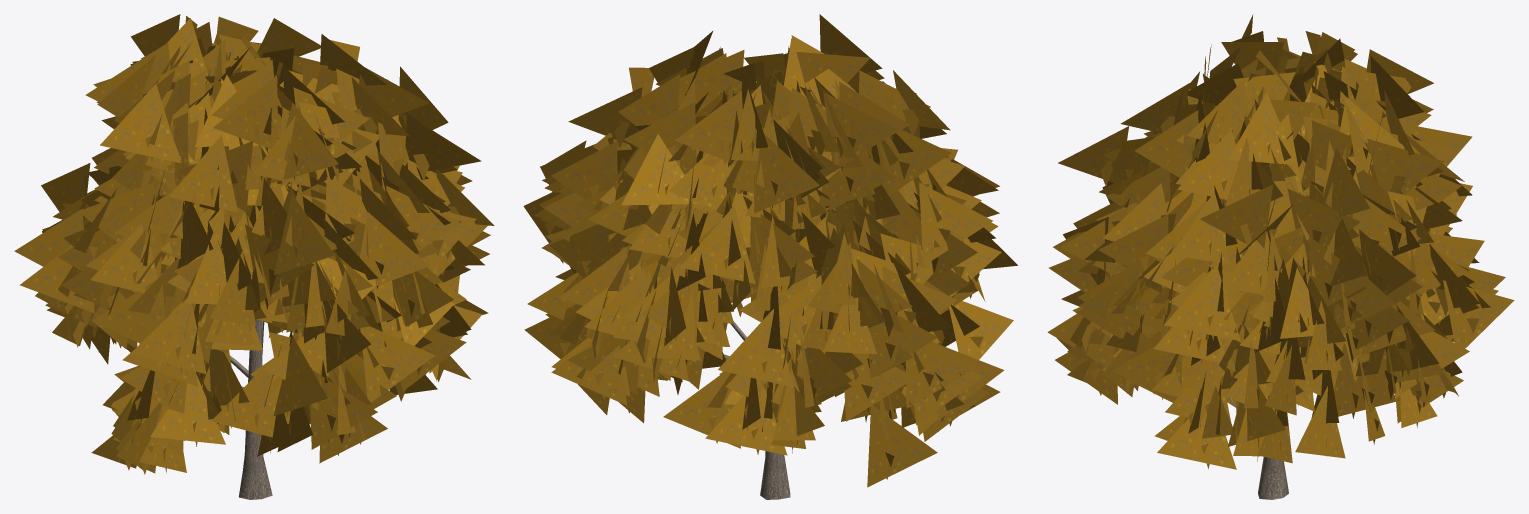
File: Robinia_Pseudoacacia_Autumn_Young.glb
3 renders of one model, left to right at view 1: azimuth 30°, elevation 25°; view 2: azimuth 150°, elevation 25°; view 3: azimuth 270°, elevation 25°, orthographic. The views are drawn at different scales.
Parts seen in each view (by area): view 1: Robinia_Pseudoacacia_Autumn_Young__LOD3; view 2: Robinia_Pseudoacacia_Autumn_Young__LOD3; view 3: Robinia_Pseudoacacia_Autumn_Young__LOD3.
Boxes of the visible parts, x1,y1,x2,y2 form: Robinia_Pseudoacacia_Autumn_Young__LOD3: [14, 14, 494, 499]; Robinia_Pseudoacacia_Autumn_Young__LOD3: [523, 14, 1017, 499]; Robinia_Pseudoacacia_Autumn_Young__LOD3: [1047, 14, 1514, 499].
Size of the model in its own units: 9.17 by 9.15 by 8.71.
2 materials, 2 textured.
